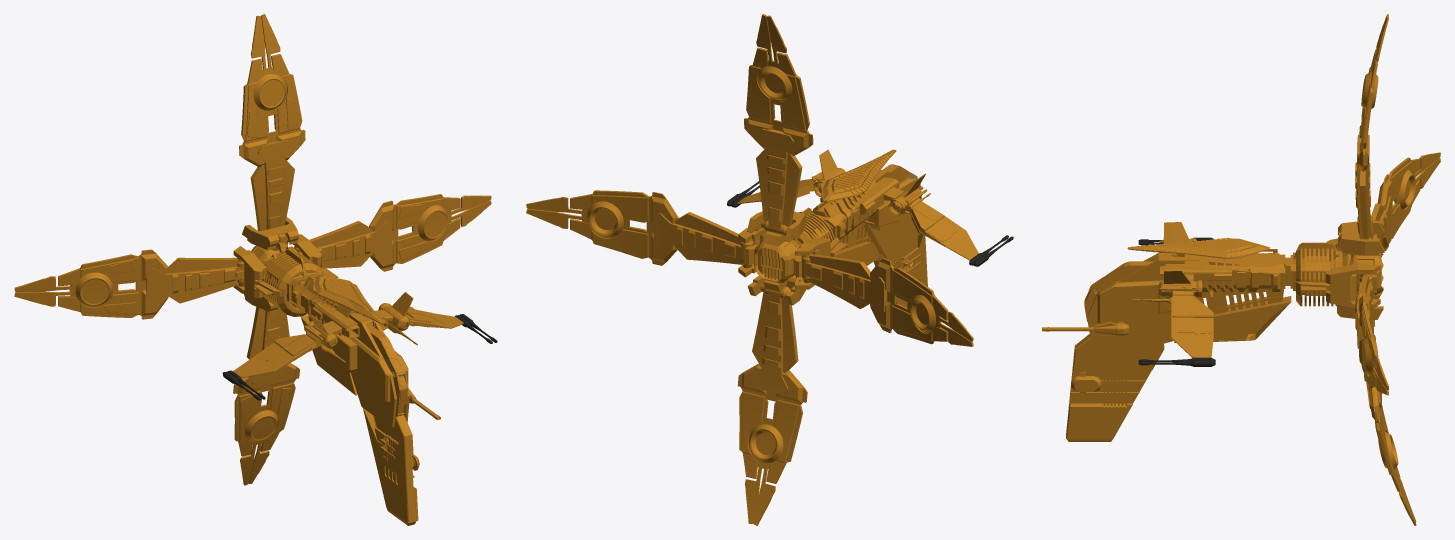
File: 2snowflake.obj
3 renders of one model, left to right at view 1: azimuth 30°, elevation 25°; view 2: azimuth 150°, elevation 25°; view 3: azimuth 270°, elevation 25°, orthographic. The views are drawn at different scales.
Size of the model in its own units: 3.8 by 3.84 by 2.73.
